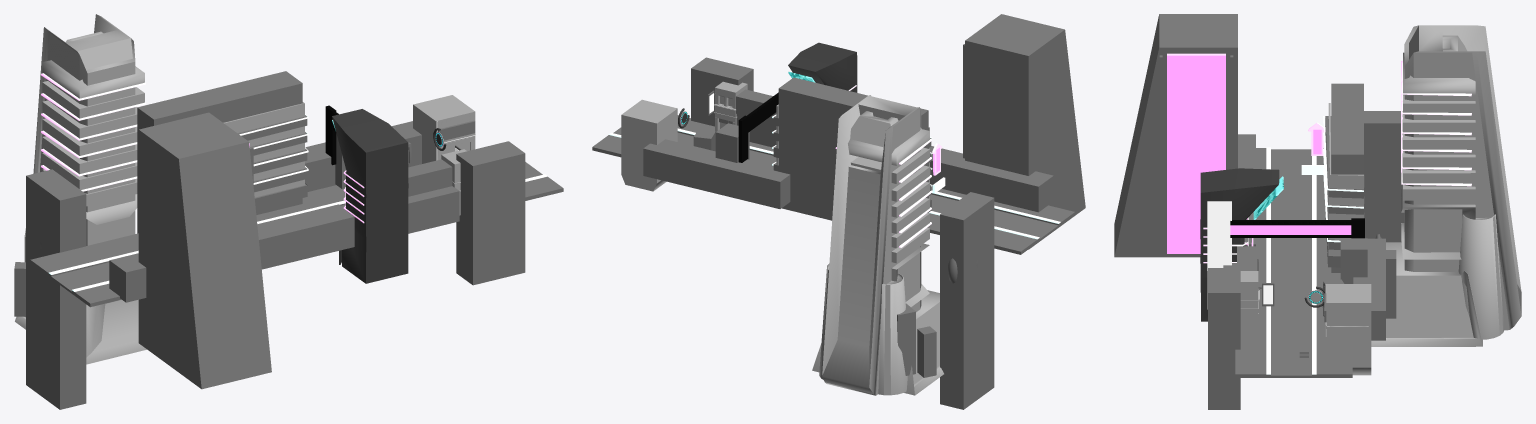
The model's file is streetCompress.gltf.
3 views of the same model, side by side, from view 1: azimuth 30°, elevation 25°; view 2: azimuth 150°, elevation 25°; view 3: azimuth 270°, elevation 25° (orthographic). The views are drawn at different scales.
Parts seen in each view (by area): view 1: pasted__polySurface4391, pasted__pasted__pCube59, polySurface12, polySurface10, pCube51, pCube51.002, polySurface3, pCube16, pCube51.003, pCube51.001, pCube65, polySurface4 (+2 smaller); view 2: pasted__polySurface4391, pasted__pasted__pCube59, polySurface12, pCube51.001, polySurface3, pCube51.002, pCube16, polySurface10, pCube51, polySurface27, polySurface1, pCube47 (+3 smaller); view 3: pasted__polySurface4391, pasted__pasted__pCube59, polySurface3, polySurface12, polySurface10, pCube51, pCube16, polySurface27, pCube51.001, pCube47, polySurface1, polySurface4 (+3 smaller).
Part boxes in pixels (<box>): pasted__polySurface4391: <box>14,14,146,409</box>; pasted__pasted__pCube59: <box>138,112,271,389</box>; polySurface12: <box>137,71,308,233</box>; polySurface10: <box>332,109,408,283</box>; pCube51: <box>456,141,525,285</box>; pCube51.002: <box>109,204,354,302</box>; polySurface3: <box>30,162,563,307</box>; pCube16: <box>413,95,475,163</box>; pCube51.003: <box>408,186,459,233</box>; pCube51.001: <box>305,121,421,191</box>; pCube65: <box>408,159,452,196</box>; polySurface4: <box>49,200,345,274</box>; pasted__polySurface4391: <box>812,95,994,409</box>; pasted__pasted__pCube59: <box>963,14,1085,249</box>; polySurface12: <box>772,77,945,220</box>; pCube51.001: <box>643,139,790,208</box>; polySurface3: <box>592,115,1075,254</box>; pCube51.002: <box>930,146,1053,212</box>; pCube16: <box>621,99,677,191</box>; polySurface10: <box>788,42,857,92</box>; pCube51: <box>691,57,753,126</box>; polySurface27: <box>738,92,778,162</box>; polySurface1: <box>714,81,747,131</box>; pCube47: <box>715,123,749,162</box>; pasted__polySurface4391: <box>1364,25,1521,346</box>; pasted__pasted__pCube59: <box>1114,14,1237,257</box>; polySurface3: <box>1235,148,1352,377</box>; polySurface12: <box>1301,83,1364,272</box>; polySurface10: <box>1200,168,1283,321</box>; pCube51: <box>1208,268,1240,409</box>; pCube16: <box>1326,284,1371,375</box>; polySurface27: <box>1230,218,1364,238</box>; pCube51.001: <box>1353,238,1385,340</box>; pCube47: <box>1340,238,1367,283</box>; polySurface1: <box>1240,271,1259,332</box>; polySurface4: <box>1312,156,1316,374</box>.
Bounding box in the file's own units: 1.39 × 0.9023 × 1.06.
Materials: 20 (1 with a texture image).
